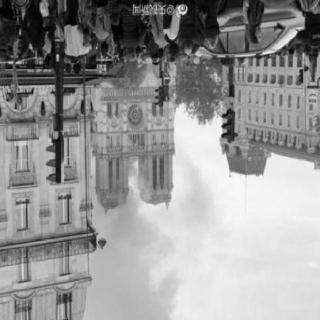Fire: (128, 132, 134, 156)
other: (169, 57, 187, 67)
